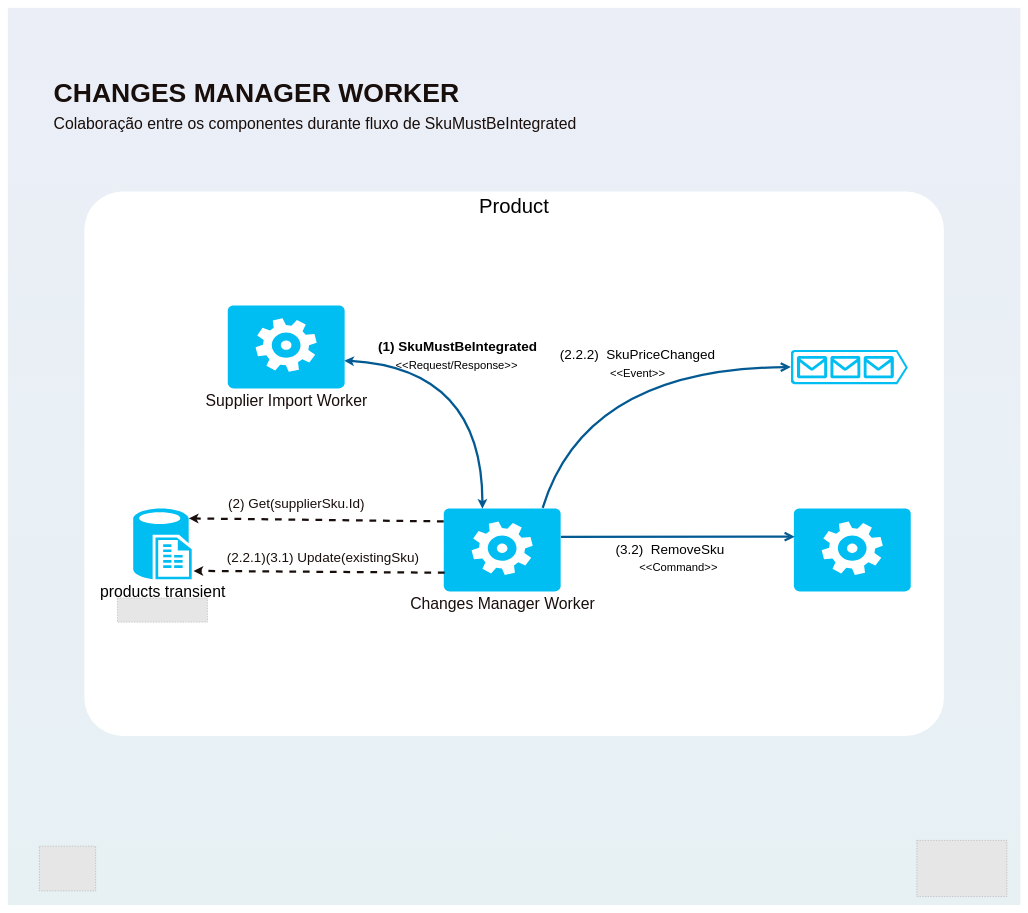
Some shapes in this 1028 by 913 pixel diagram are drawn without their labels. Grey dashed boxes stand in for pictures. The box of each missing label's shape, as (x1, y1, x2, y2) in pixels:
price changed event: (791, 350, 908, 384)
Saga Manager Worker: (794, 508, 911, 591)
